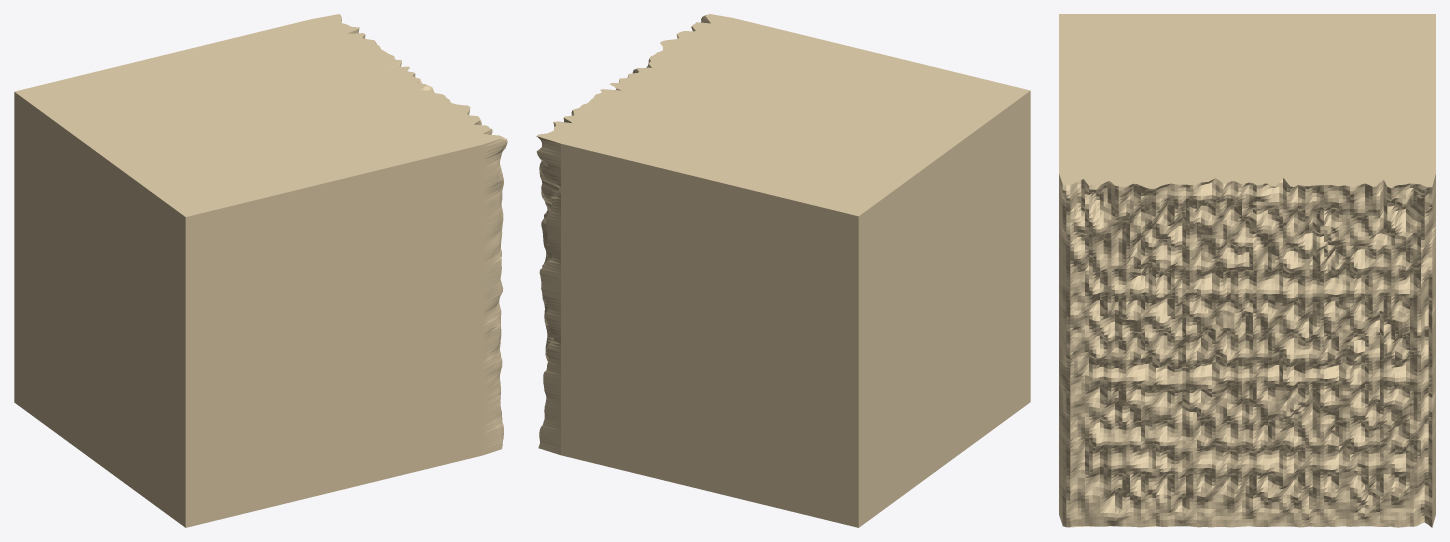
Rendered from bottom7.png - copia.obj.
3 views of the same model, side by side, from view 1: azimuth 30°, elevation 25°; view 2: azimuth 150°, elevation 25°; view 3: azimuth 270°, elevation 25° (orthographic). The views are drawn at different scales.
Parts seen in each view (by area): view 1: Cube; view 2: Cube; view 3: Cube.
Boxes of the visible parts, bbox=[...] form: Cube: bbox=[14, 14, 507, 527]; Cube: bbox=[536, 14, 1030, 527]; Cube: bbox=[1059, 14, 1435, 527].
Bounding box in the file's own units: 1.1 × 1 × 1.
